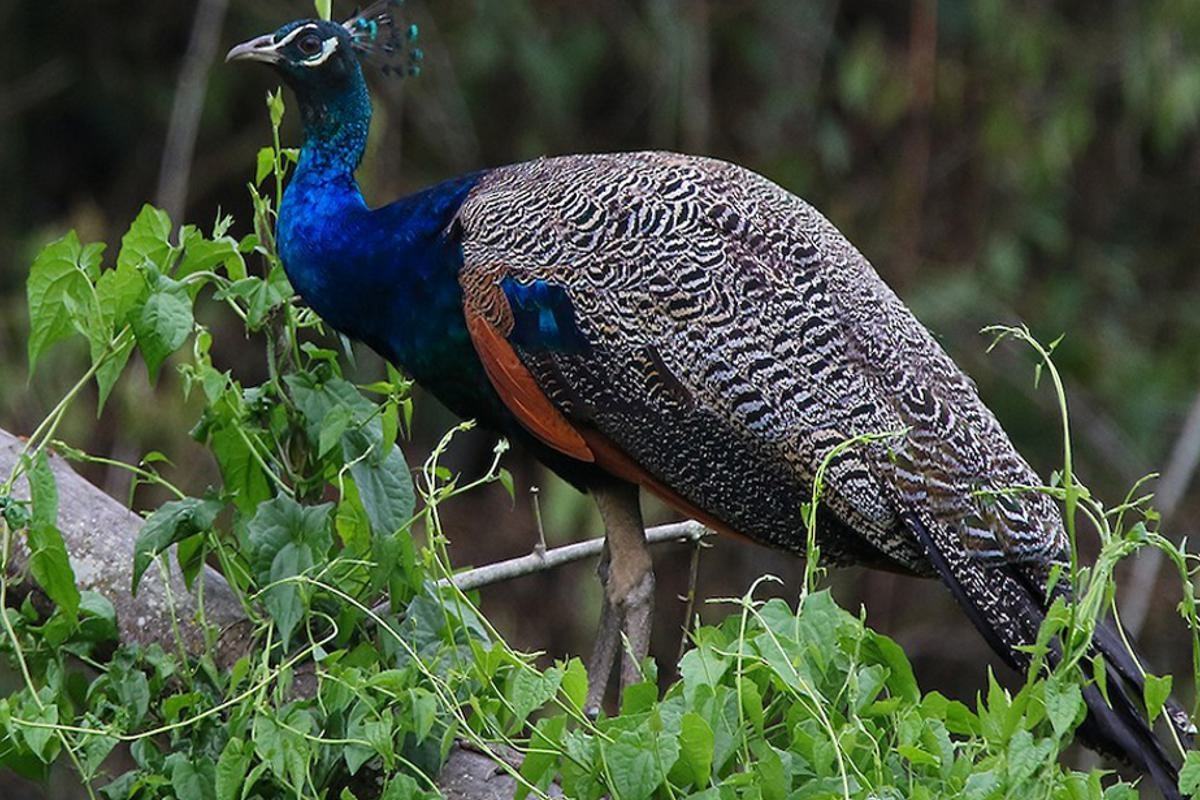peacock: (173, 24, 1123, 793)
